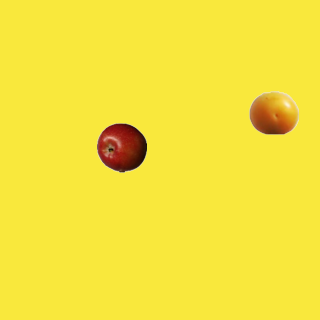Apple Braeburn: (96, 122, 146, 172)
Cherry Wax Yellow: (248, 87, 298, 137)
